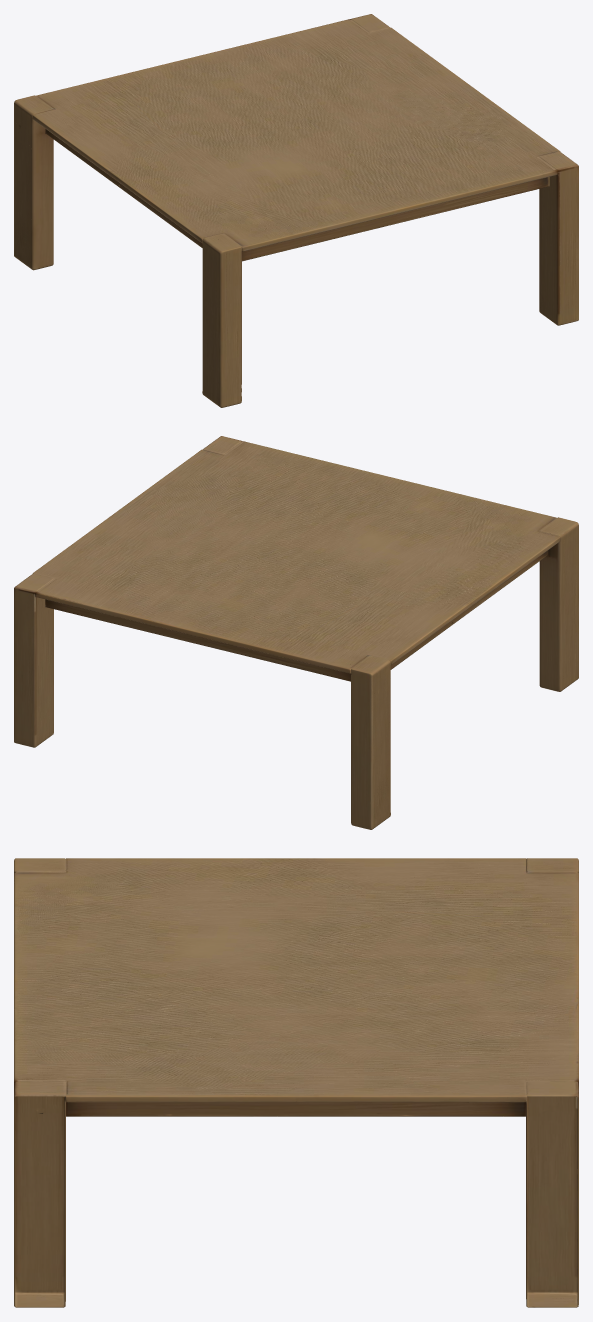
The model's file is dining_table.glb.
3 views of the same model, one above another, from view 1: azimuth 30°, elevation 25°; view 2: azimuth 150°, elevation 25°; view 3: azimuth 270°, elevation 25° (orthographic). The views are drawn at different scales.
Visible parts, largest first — view 1: node_0; view 2: node_0; view 3: node_0.
Part boxes in pixels (left/top/right/bottom): node_0: left=14, top=14, right=578, bottom=407; node_0: left=14, top=436, right=578, bottom=829; node_0: left=14, top=858, right=578, bottom=1307.
Bounding box in the file's own units: 0.8175 × 0.3414 × 0.818.
1 material, 1 textured.
